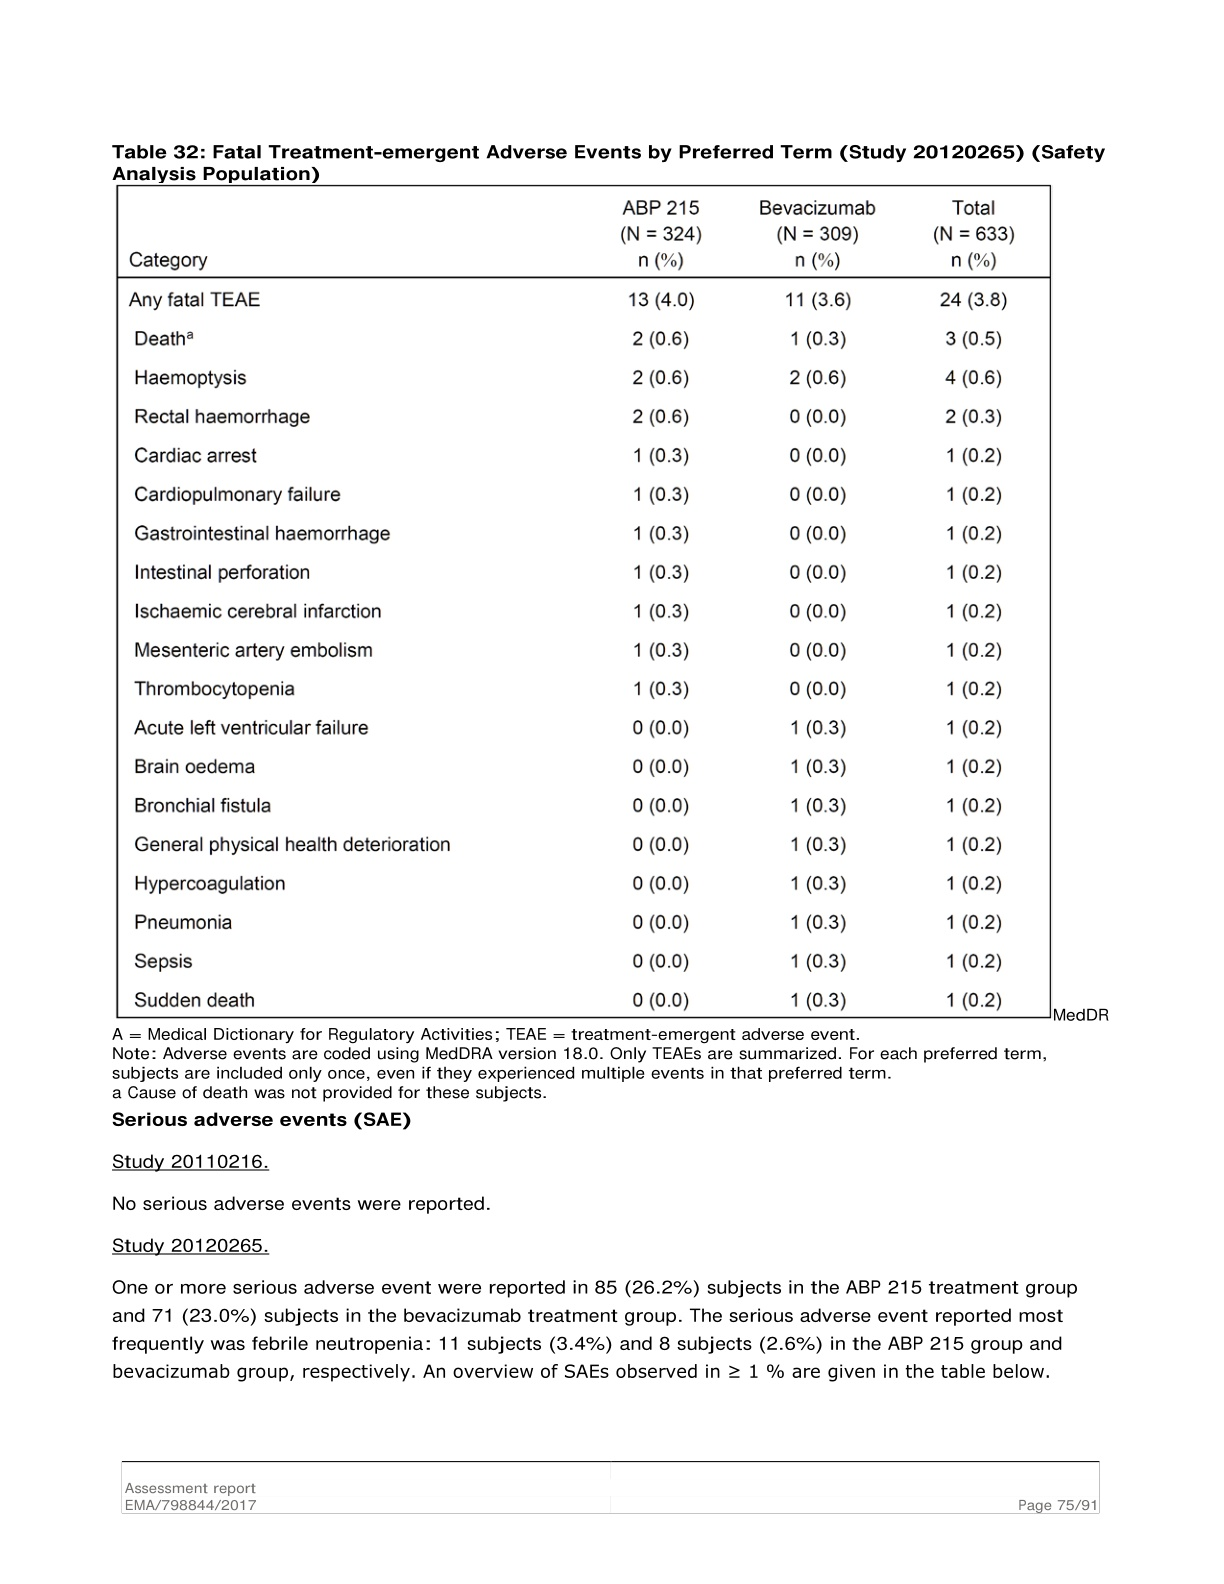partial_lined: (114, 183, 1056, 1020)
